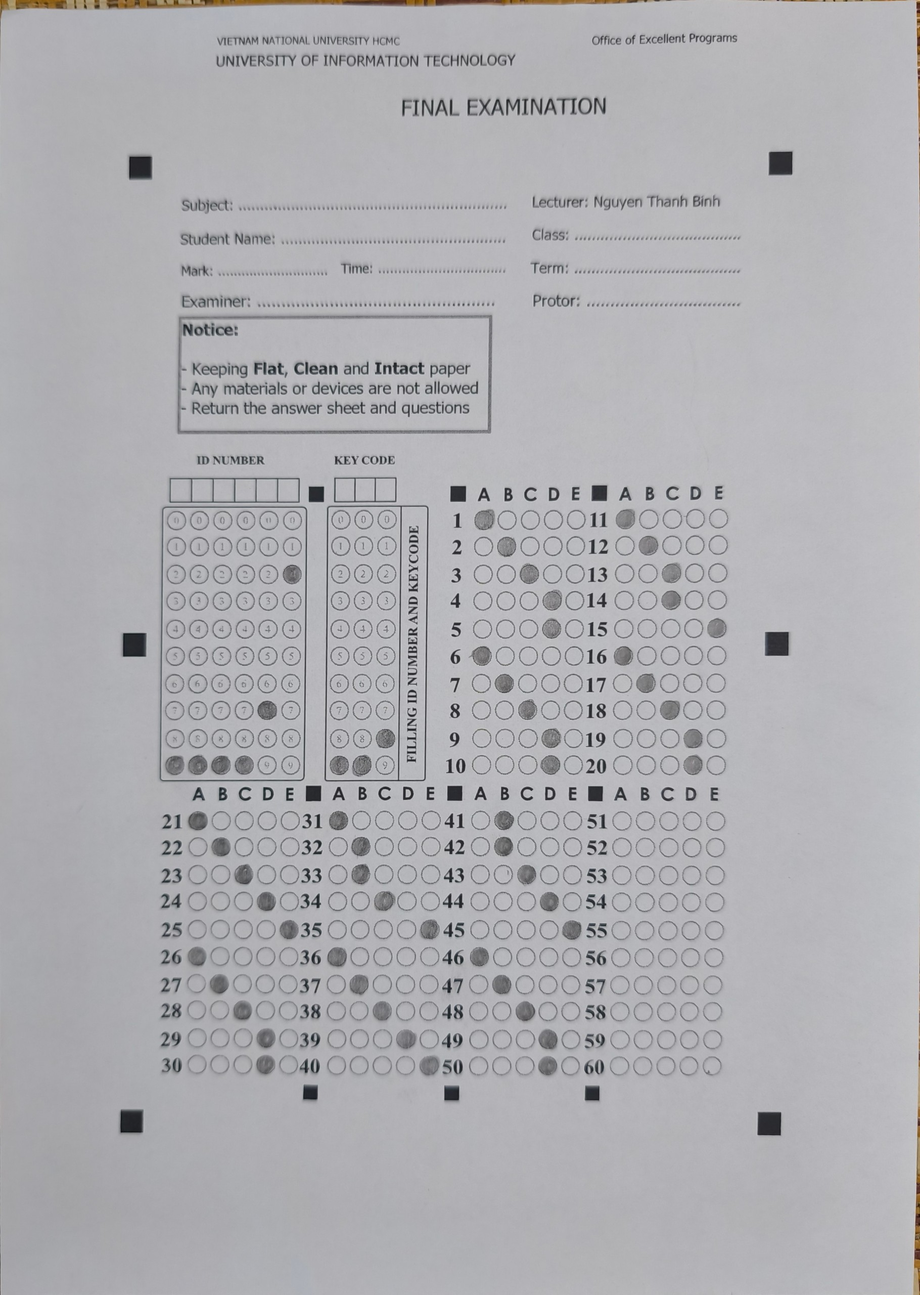info_region: (163, 508, 401, 779)
paper_region: (139, 162, 777, 1123)
q_1_20: (458, 493, 733, 792)
q_21_60: (163, 792, 733, 1095)
